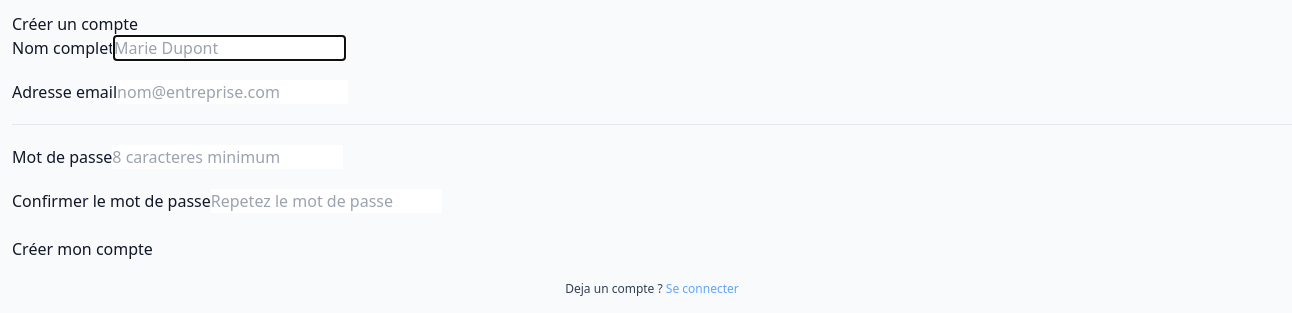
Test: RegisterPage › validation Zod — règles de complexité du mot de passe › devrait rejeter un mot de passe sans chiffre
The width and height of the screenshot is (1292, 313).
Type "Jean Dupont" into the field labelled "Nom complet" at {"x": 230, "y": 48}, box x1=114 y1=36 x2=345 y2=60
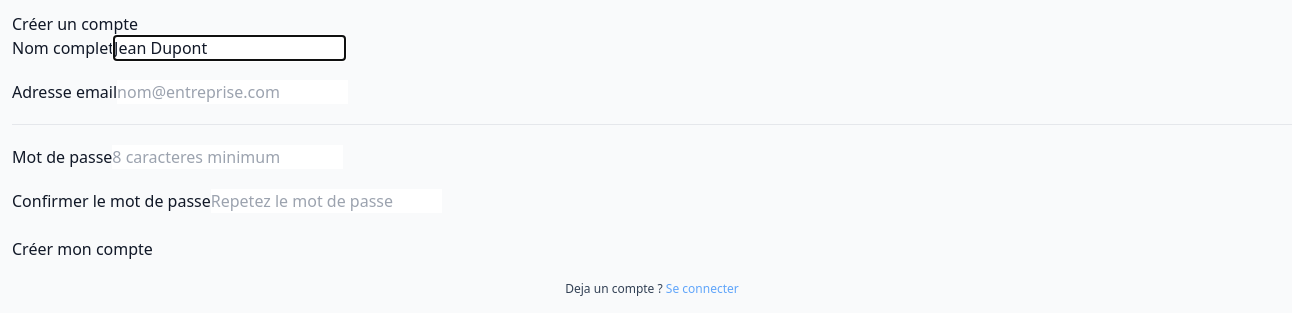
Type "jean@crm.io" into the field labelled "Adresse email" at {"x": 233, "y": 92}, box x1=117 y1=80 x2=348 y2=104
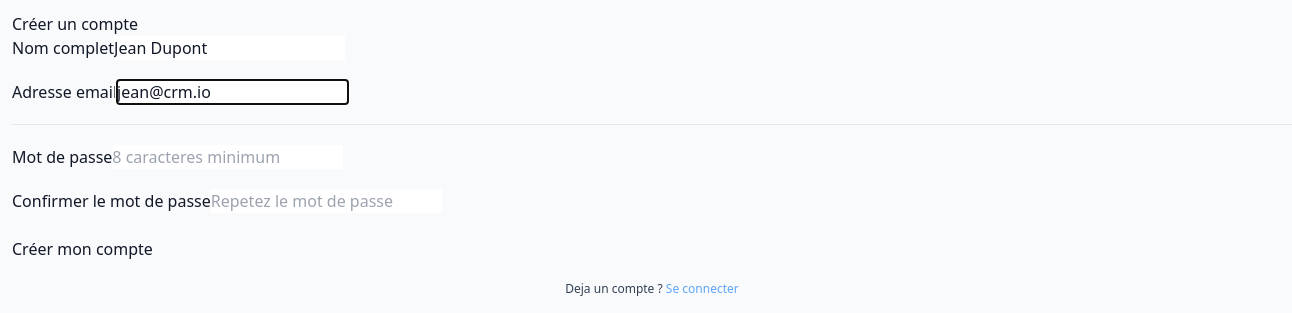
Type "PasswordABC" into the password field labelled "Mot de passe" at {"x": 228, "y": 157}, box x1=112 y1=145 x2=343 y2=169
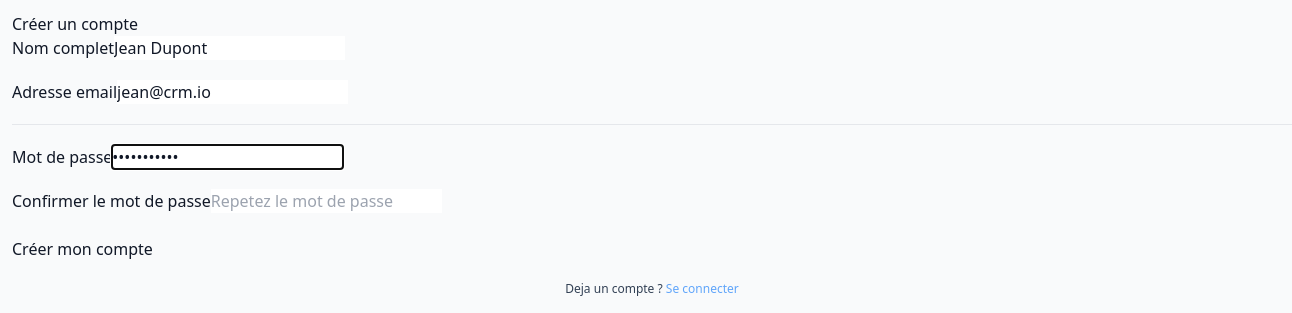
Type "PasswordABC" into the password field labelled "Confirmer le mot de passe" at {"x": 326, "y": 201}, box x1=211 y1=189 x2=442 y2=213
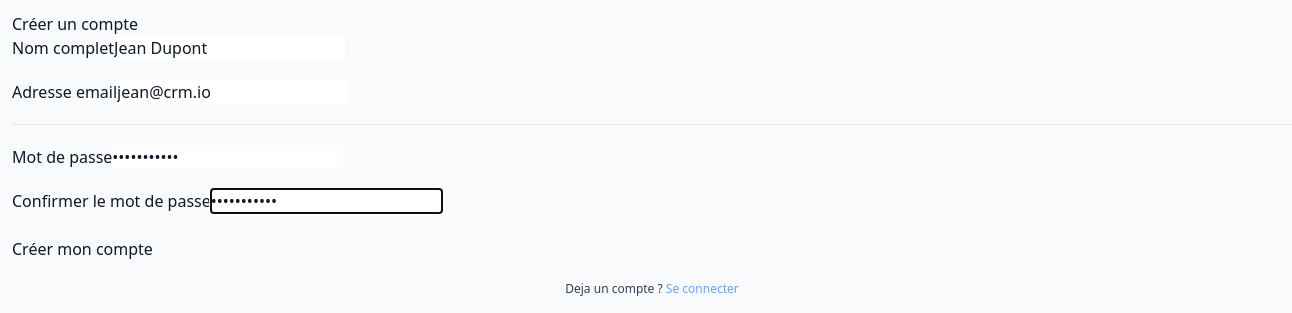
Click the button "Créer mon compte" at {"x": 82, "y": 249}, box x1=12 y1=237 x2=153 y2=261
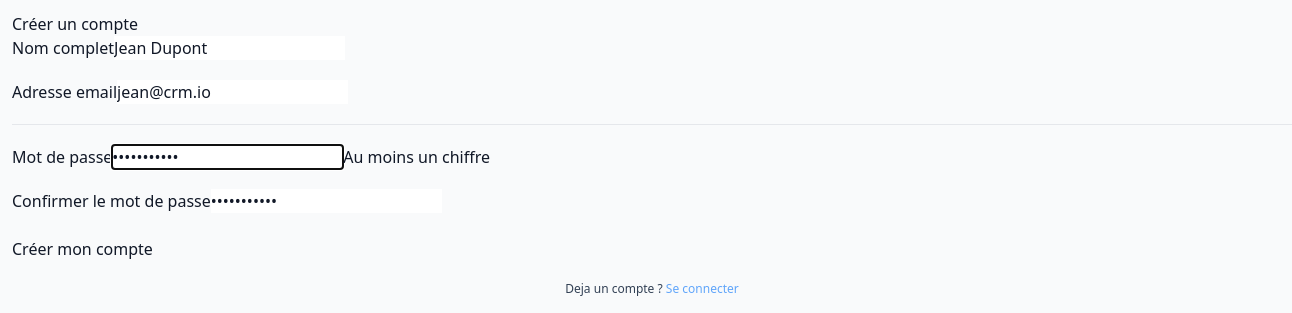
Expected: the message "Au moins un chiffre" is shown, x1=343 y1=146 x2=490 y2=168
